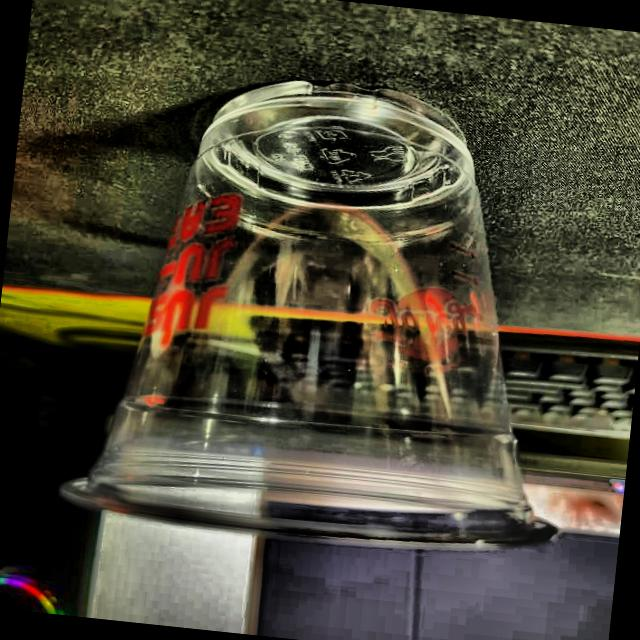plastic cup: (52, 53, 609, 568)
